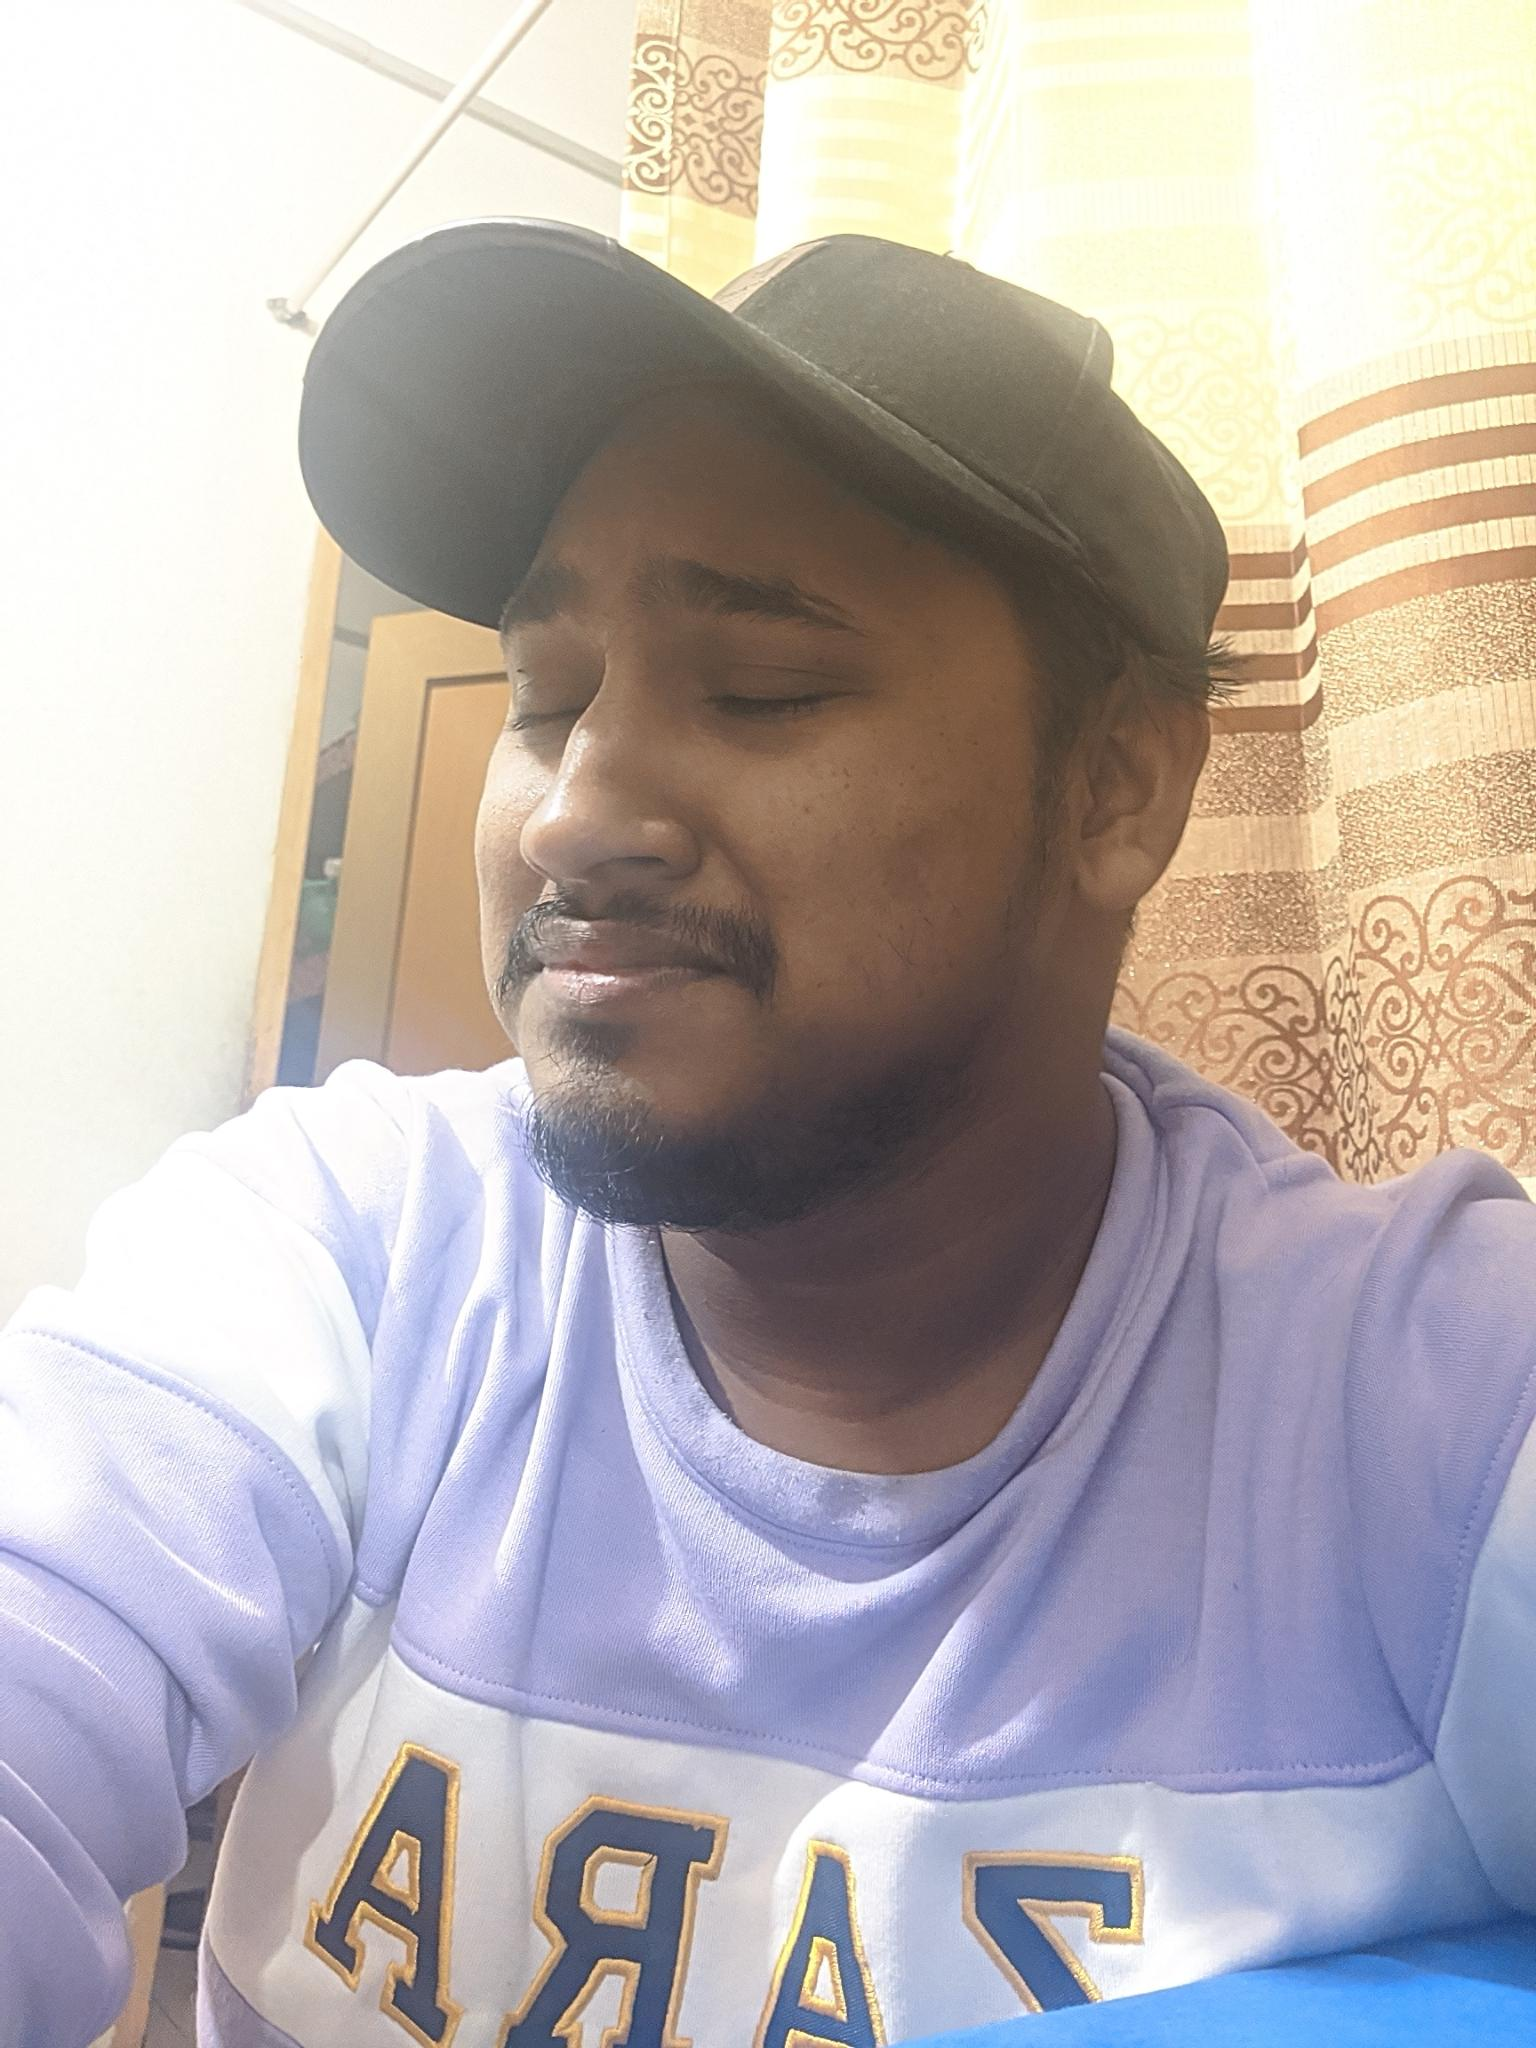Sad: (410, 508, 942, 1184)
